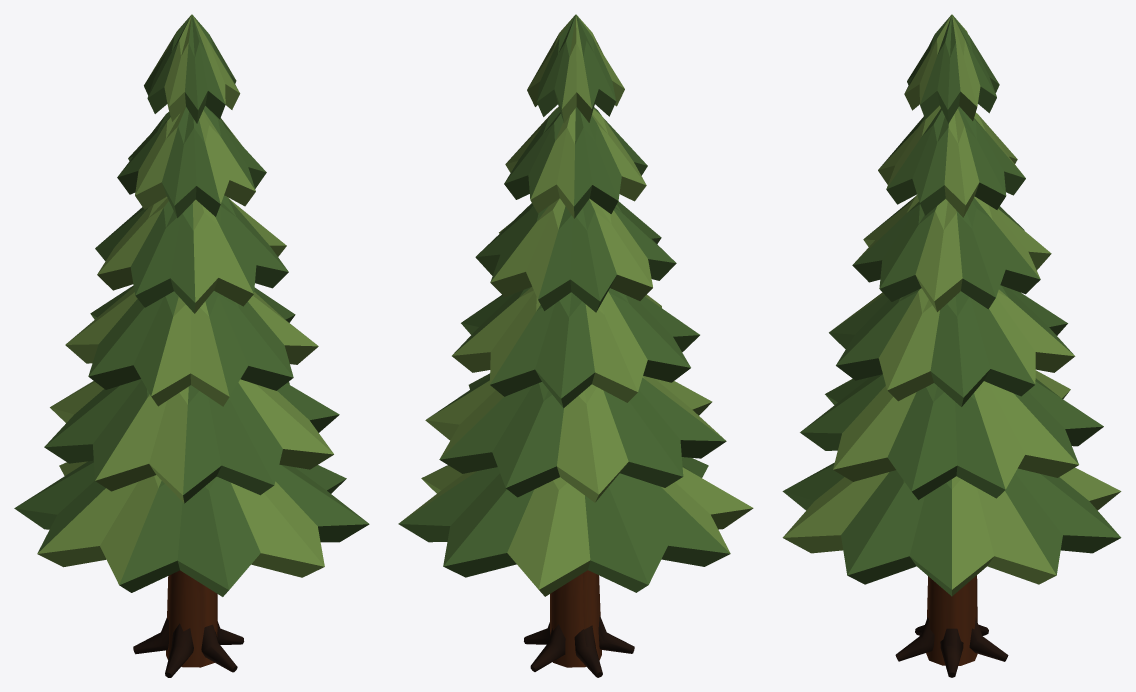
3 views of the same model, side by side, from view 1: azimuth 30°, elevation 25°; view 2: azimuth 150°, elevation 25°; view 3: azimuth 270°, elevation 25° (orthographic).
Visible parts, largest first — view 1: HarvestableTree; view 2: HarvestableTree; view 3: HarvestableTree.
Part boxes in pixels (x1,y1,x2,y2): HarvestableTree: (14, 14, 369, 677); HarvestableTree: (398, 14, 753, 677); HarvestableTree: (782, 14, 1121, 677).
Size of the model in its own units: 3.1 by 6.15 by 2.95.
5 materials, 2 textured.
